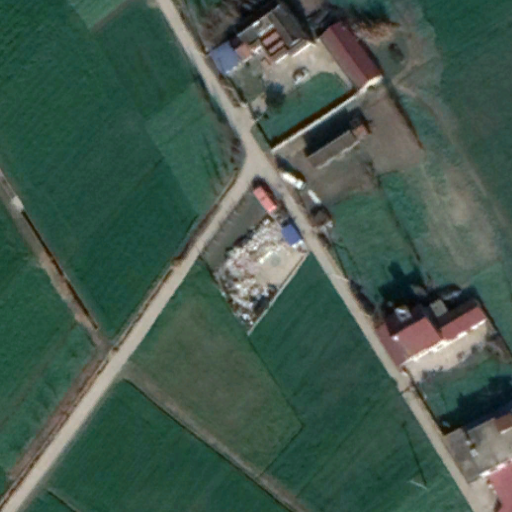msw: (214, 213, 298, 328)
